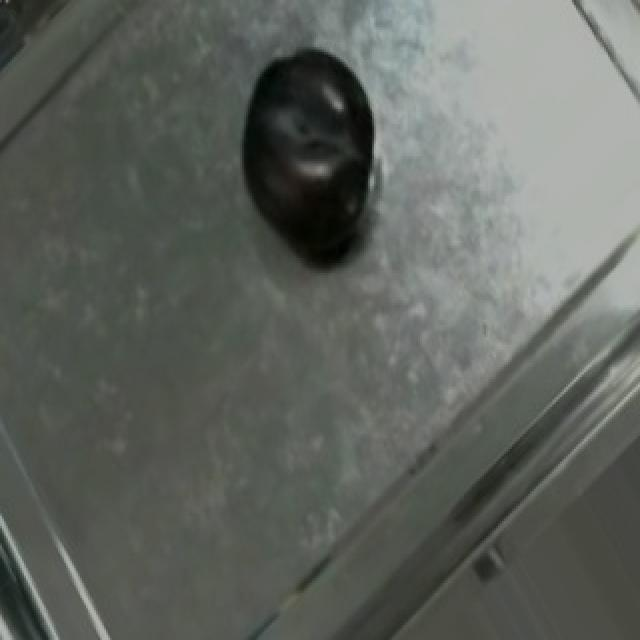Fruit: (218, 28, 402, 256)
